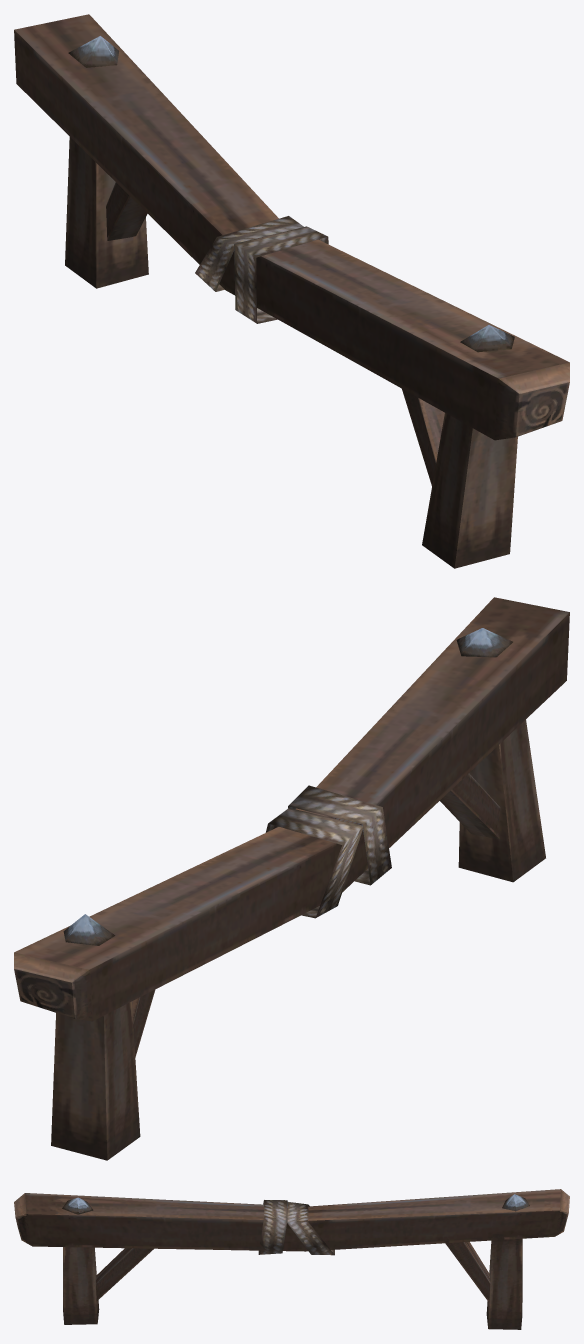
The model's file is mine_railing_large.fbx.
The picture shows the model from 3 angles, top to bottom: view 1: azimuth 30°, elevation 25°; view 2: azimuth 150°, elevation 25°; view 3: azimuth 270°, elevation 25°; orthographic projection. The views are drawn at different scales.
Parts seen in each view (by area): view 1: mine_railing_large-0; view 2: mine_railing_large-0; view 3: mine_railing_large-0.
Part boxes in pixels (x1,y1,x2,y2): mine_railing_large-0: [14, 14, 569, 568]; mine_railing_large-0: [14, 597, 569, 1160]; mine_railing_large-0: [14, 1189, 569, 1329].
Bounding box in the file's own units: 0.7764 × 1.58 × 6.2.
